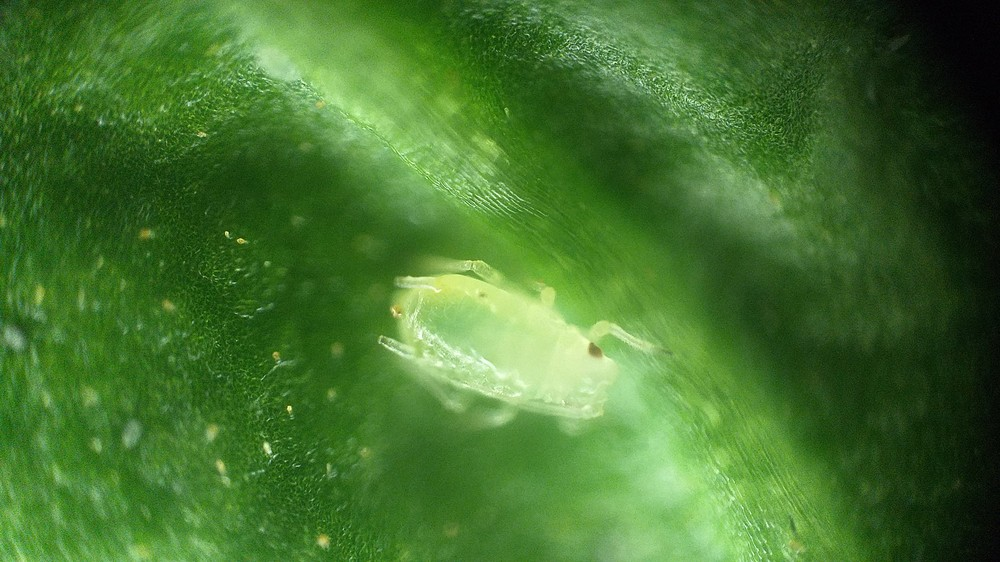Pulgon: (350, 242, 680, 474)
